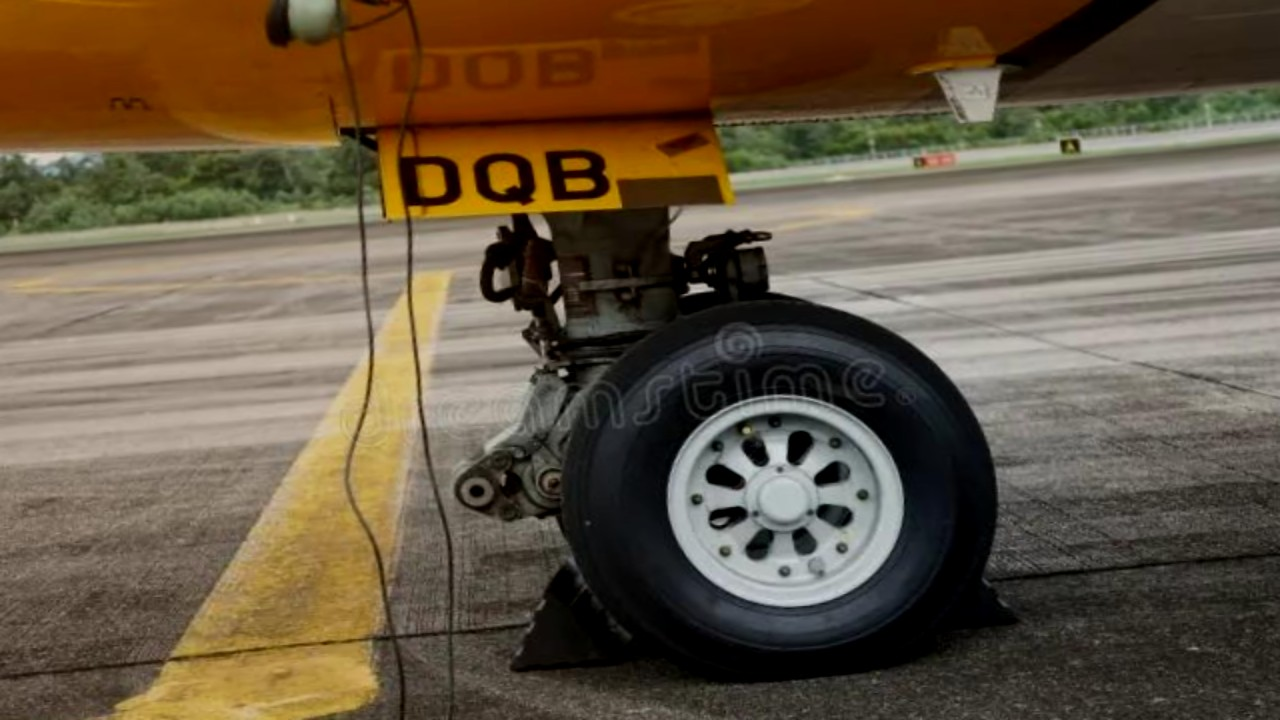chock: (494, 552, 635, 673)
wheel: (521, 276, 1016, 693)
